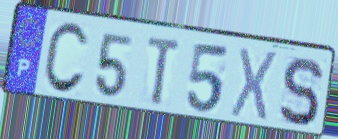5: (184, 41, 231, 116), (94, 32, 136, 99)
C: (40, 20, 91, 97)
S: (277, 54, 324, 128)
T: (145, 34, 183, 108)
X: (227, 45, 280, 125)
